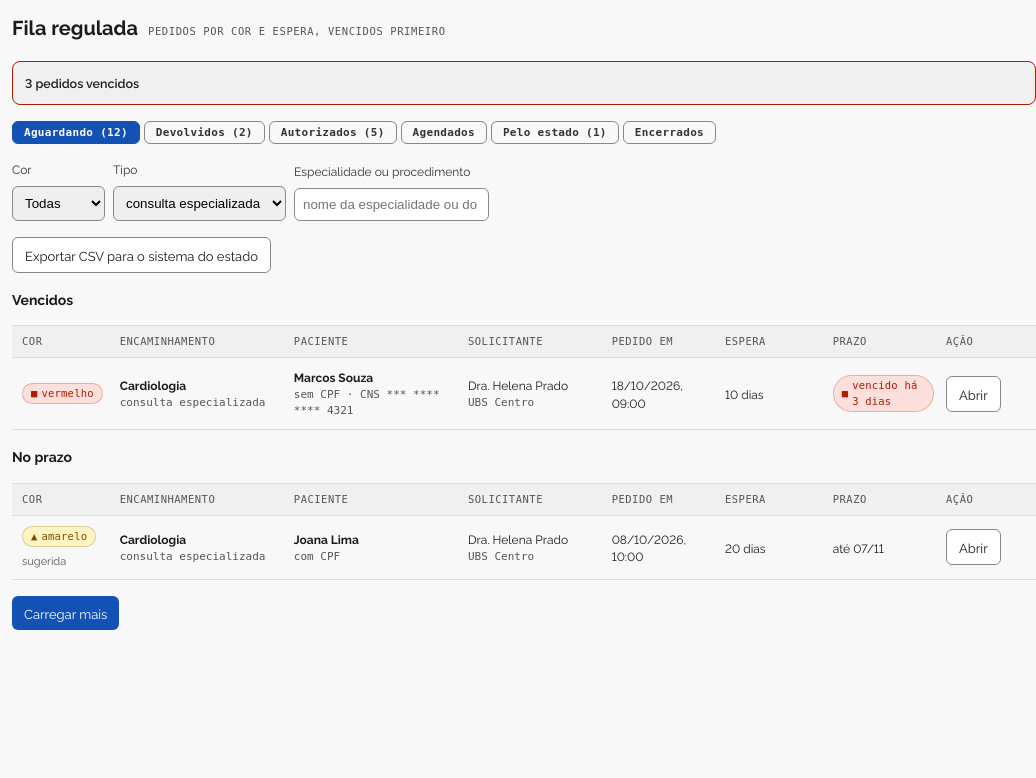
Test: RegulationQueue › trocar de aba tira a frase da decisão
This screenshot has width=1036, height=778.
Click the button with aria-label "Abrir pedido de Cardiologia" at (973, 547), box [946,529,1001,565]
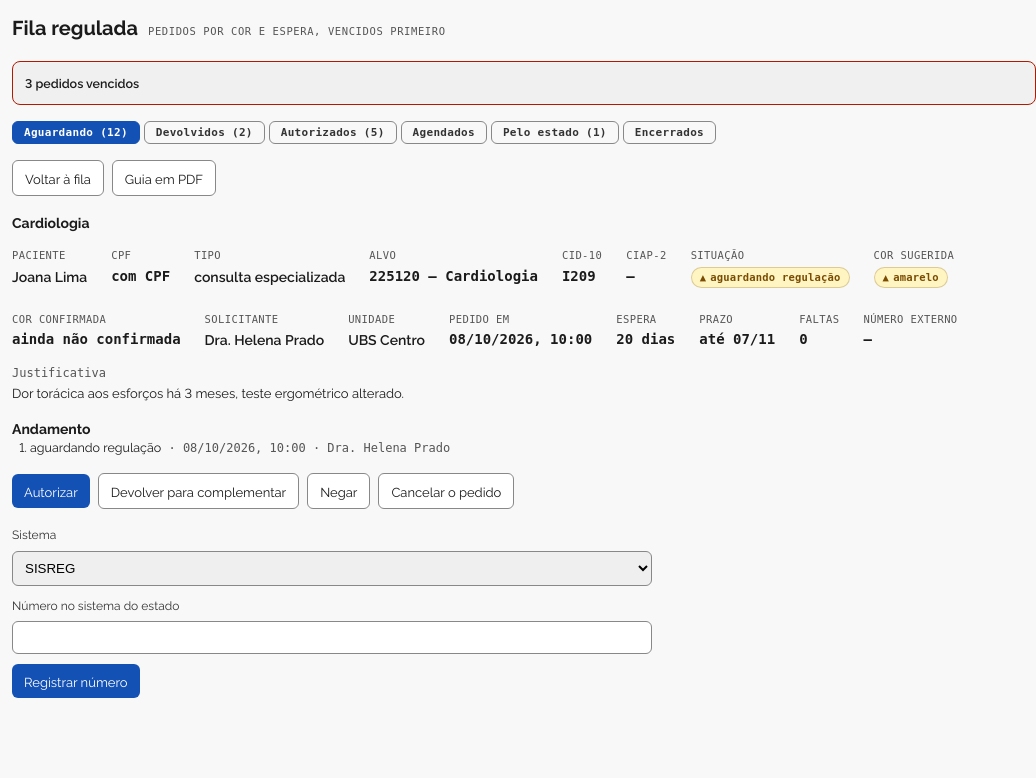
Click the button "Devolver para complementar" at (198, 491), box [98,473,299,509]
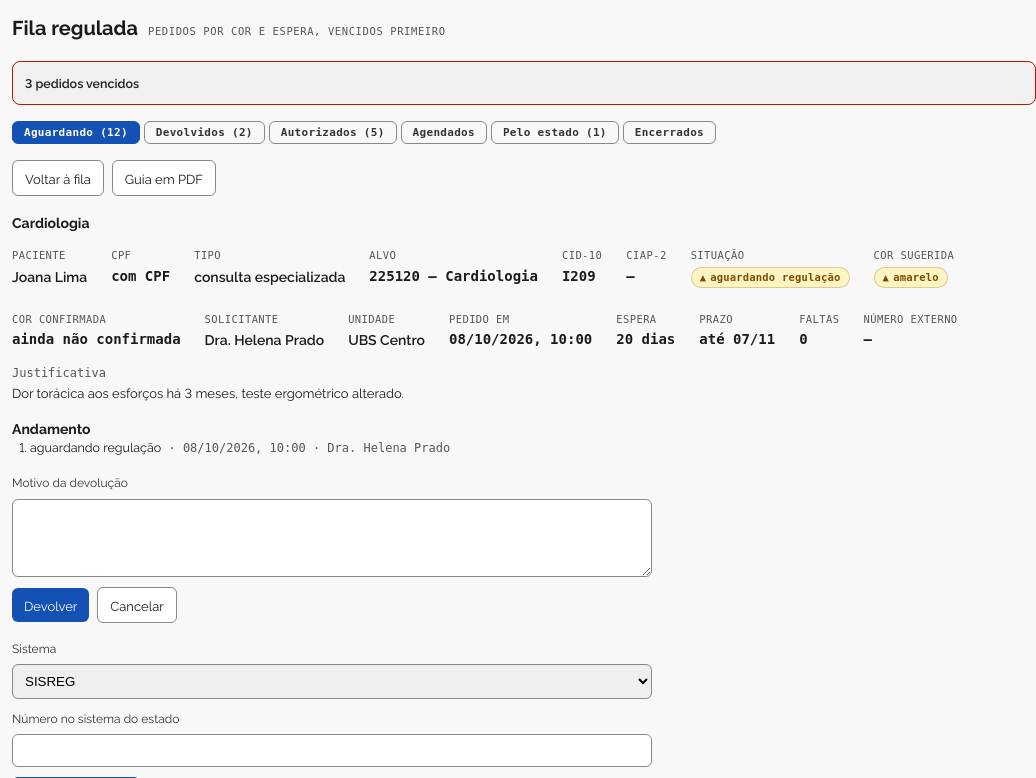
Type "Falta o resultado do teste ergométrico" into the text box labelled "Motivo da devolução" at (332, 538), box [12,499,652,577]
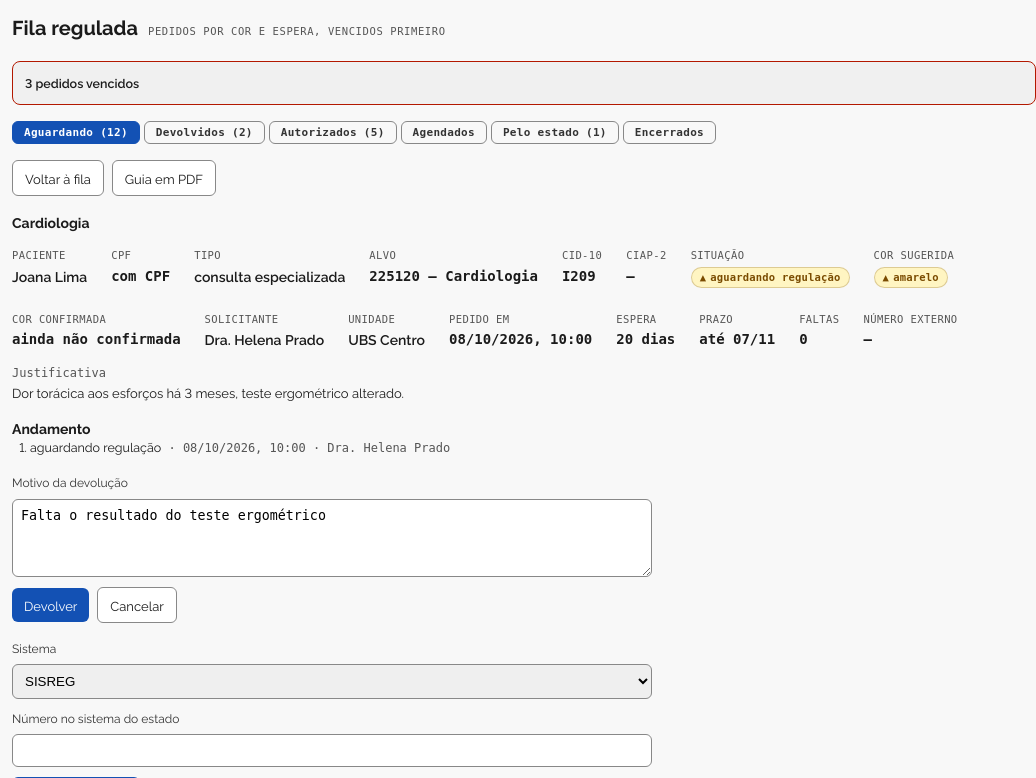
Click the button "Devolver" at (51, 605), box [12,588,89,622]
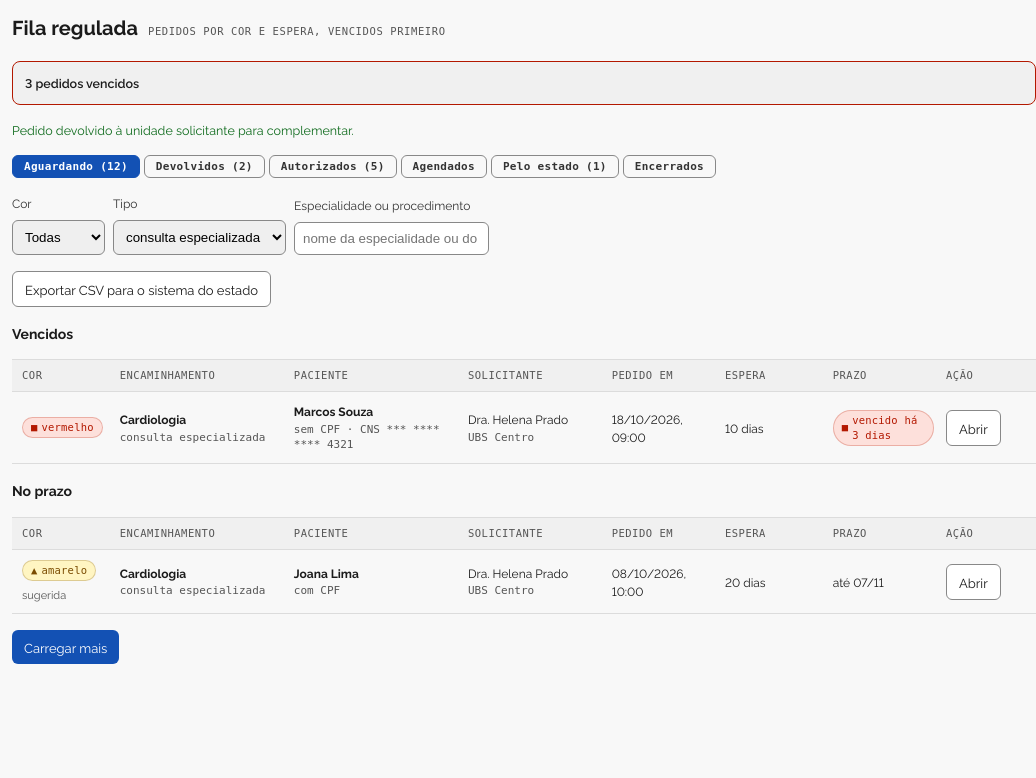
Now the text "Pedido devolvido à unidade solicitante para complementar." is shown, box [12,121,354,138]
Click the tab "Devolvidos (2)" at (204, 167), box [144,155,265,178]
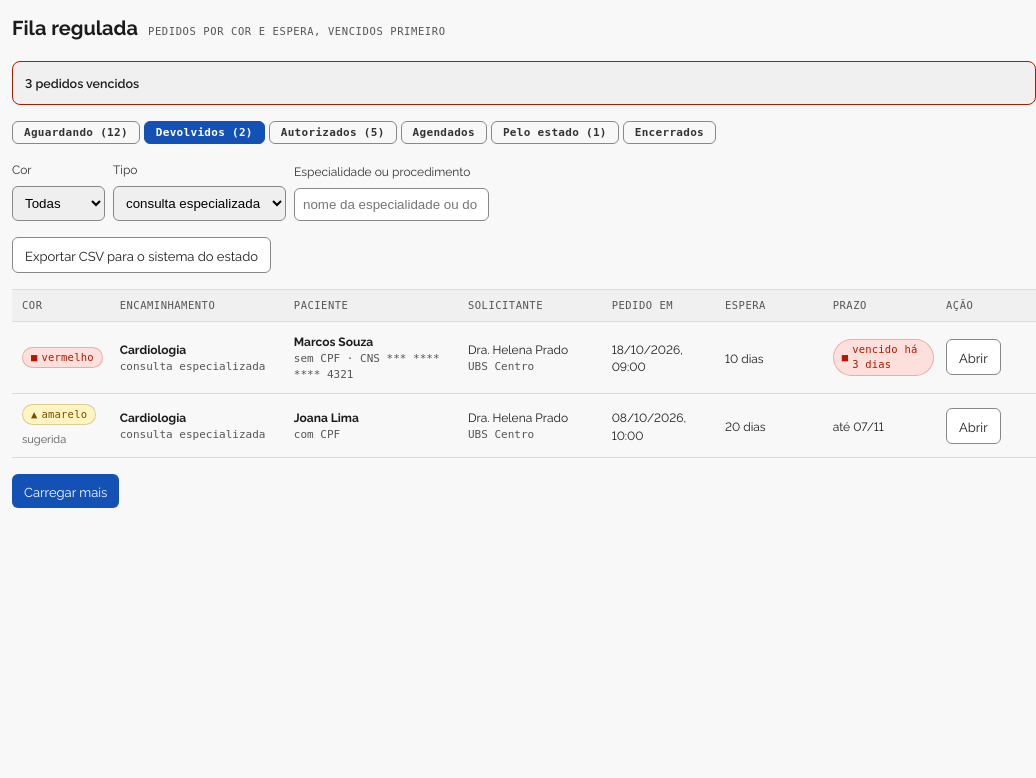
Now the text "Pedido devolvido à unidade solicitante para complementar." is gone
